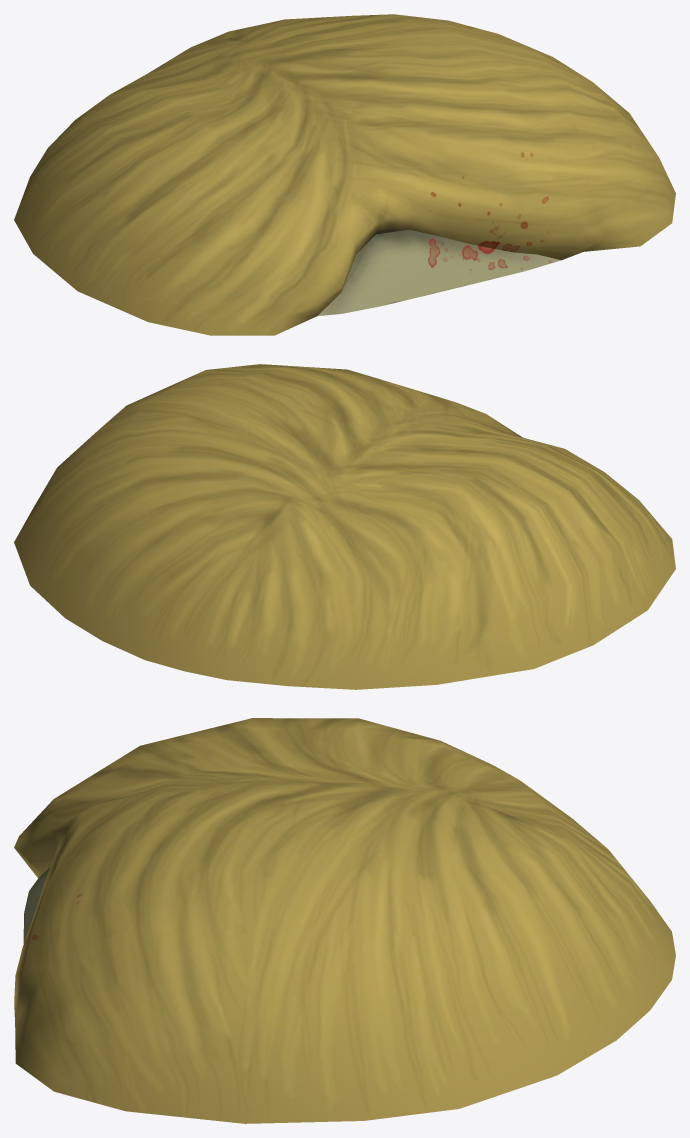
The model's file is cup_of_head.FBX.
The picture shows the model from 3 angles, top to bottom: view 1: azimuth 30°, elevation 25°; view 2: azimuth 150°, elevation 25°; view 3: azimuth 270°, elevation 25°; orthographic projection. The views are drawn at different scales.
Parts seen in each view (by area): view 1: cup_of_head; view 2: cup_of_head; view 3: cup_of_head.
Part boxes in pixels (x1,y1,x2,y2): cup_of_head: (14,14,675,335); cup_of_head: (14,364,675,689); cup_of_head: (14,718,675,1123).
Size of the model in its own units: 0.4147 by 0.3451 by 0.0954.
Materials: 1 (1 with a texture image).
